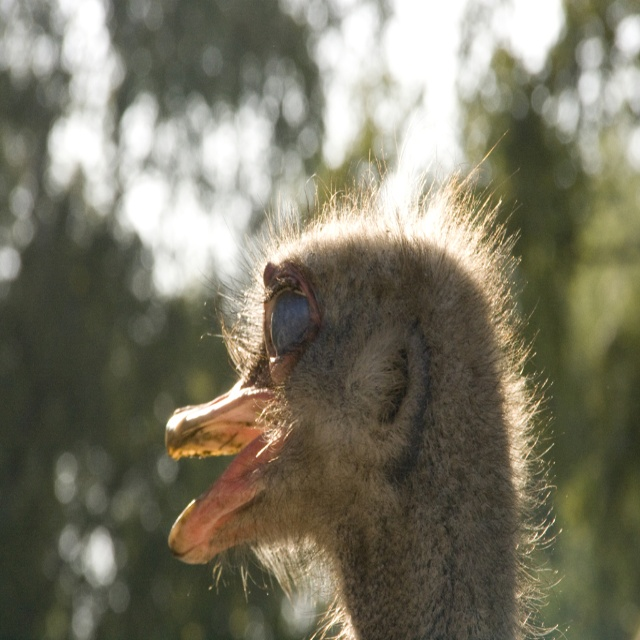Ostrich: (162, 204, 530, 639)
